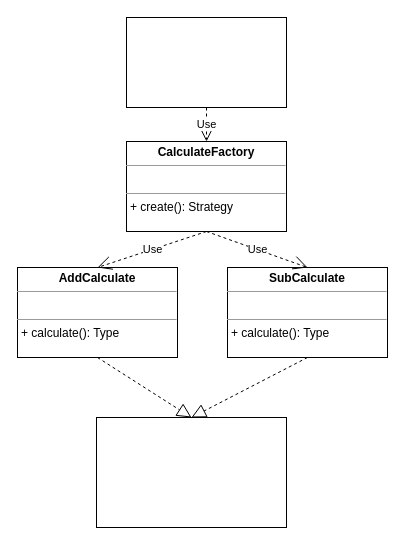
The diagram is 405 pixels wide and 545 high, and some of its shapes have lost their labels. Here are the shapes that lost their labels. From the top down, the centre of each, then its label:
At point 206,62: "StartCalculate + main(): void".
At point 191,472: "<<Interface>> Strategy + readonly field: Type + calculate(): Type".
